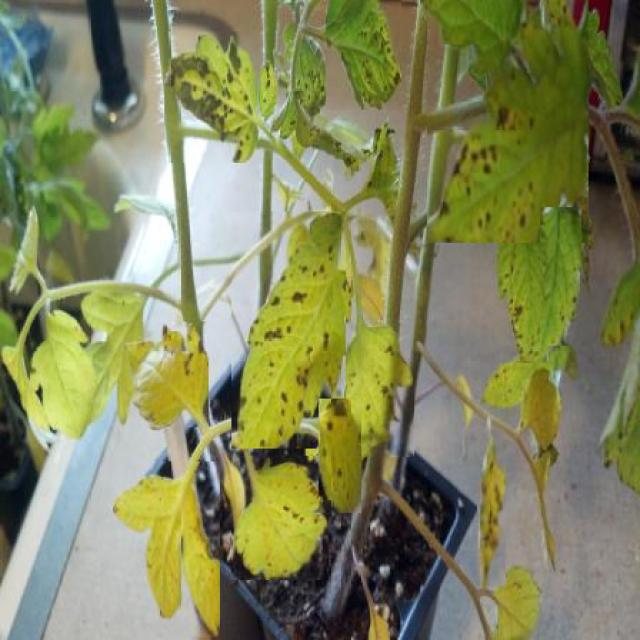Septoria: (427, 0, 589, 243), (231, 212, 346, 449), (106, 462, 221, 637), (164, 32, 260, 162), (232, 456, 328, 580), (334, 322, 414, 458), (124, 322, 209, 428), (326, 0, 401, 110), (495, 220, 548, 363), (540, 207, 581, 346), (319, 399, 362, 514), (478, 428, 506, 586)
